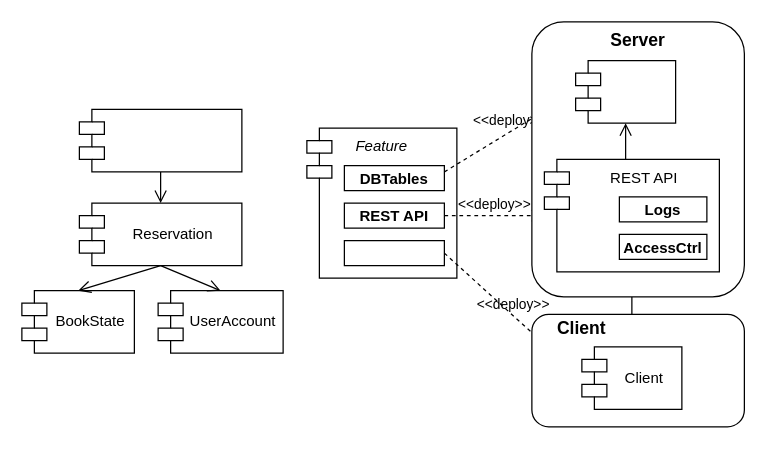
Image size: 766x449. Some labels were removed from this diagram. The shapes that lost their labels are listed below. From the top down, each one's centre as x and y in pixels, then its label:
At point (625, 91): "DB".
At point (160, 140): "CatalogueViewer".
At point (393, 252): "ClientPages".
